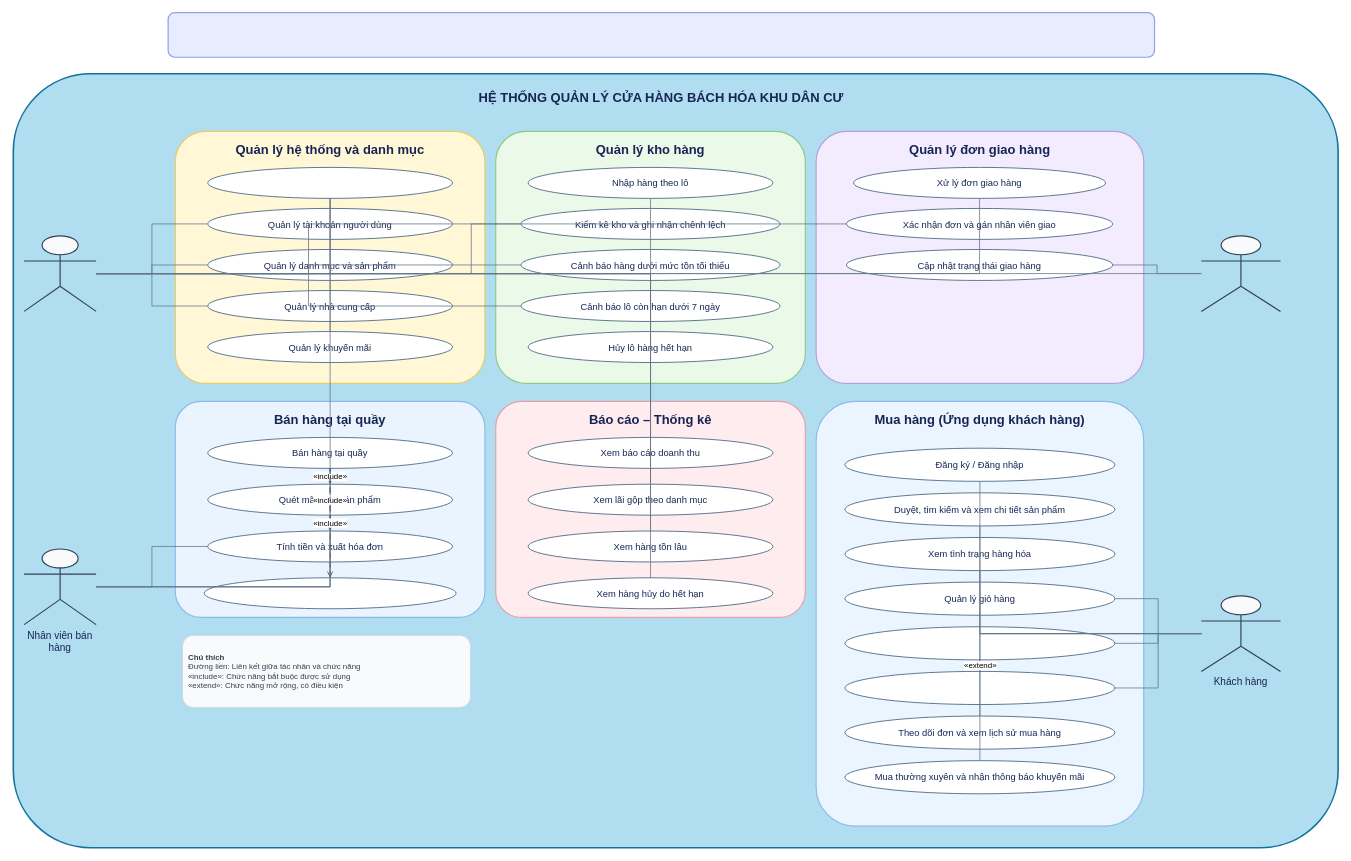
This 1351x861 diagram has some shape labels left out. The shapes that lost their labels are listed below. From the top down, each one's box as (x1, y1, x2, y2) in pixels, then its label:
(167, 12, 1155, 58): SƠ ĐỒ USE CASE TỔNG QUÁT HỆ THỐNG QUẢN LÝ CỬA HÀNG BÁCH HÓA KHU DÂN CƯ
(207, 167, 453, 199): Đăng nhập và phân quyền
(23, 235, 96, 312): Chủ cửa hàng
(1200, 235, 1281, 312): Nhân viên giao hàng
(203, 577, 456, 609): Trừ tồn kho theo nguyên tắc FEFO
(844, 626, 1115, 660): Đặt đơn và chọn khung giờ giao
(844, 671, 1115, 705): Áp dụng khuyến mãi hàng cận hạn
